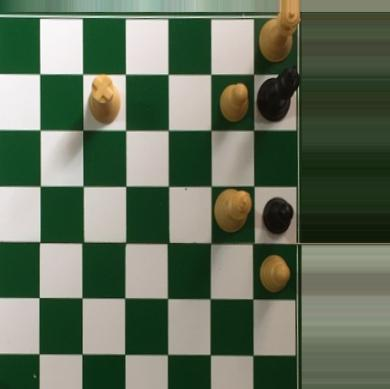black-king: (255, 62, 301, 123)
black-pawn: (261, 194, 293, 237)
white-king: (211, 187, 253, 233)
white-pawn: (217, 79, 250, 124), (258, 253, 292, 296)
white-queen: (256, 12, 301, 67)
white-rook: (88, 72, 121, 124)
